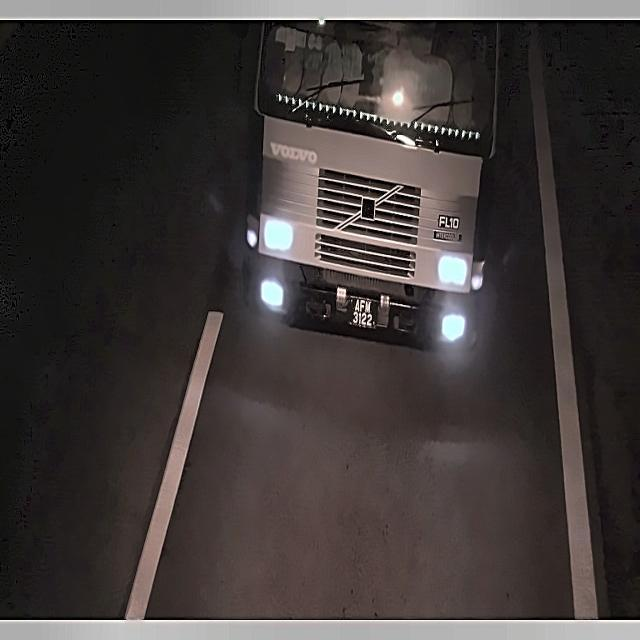car: (340, 286, 390, 335)
